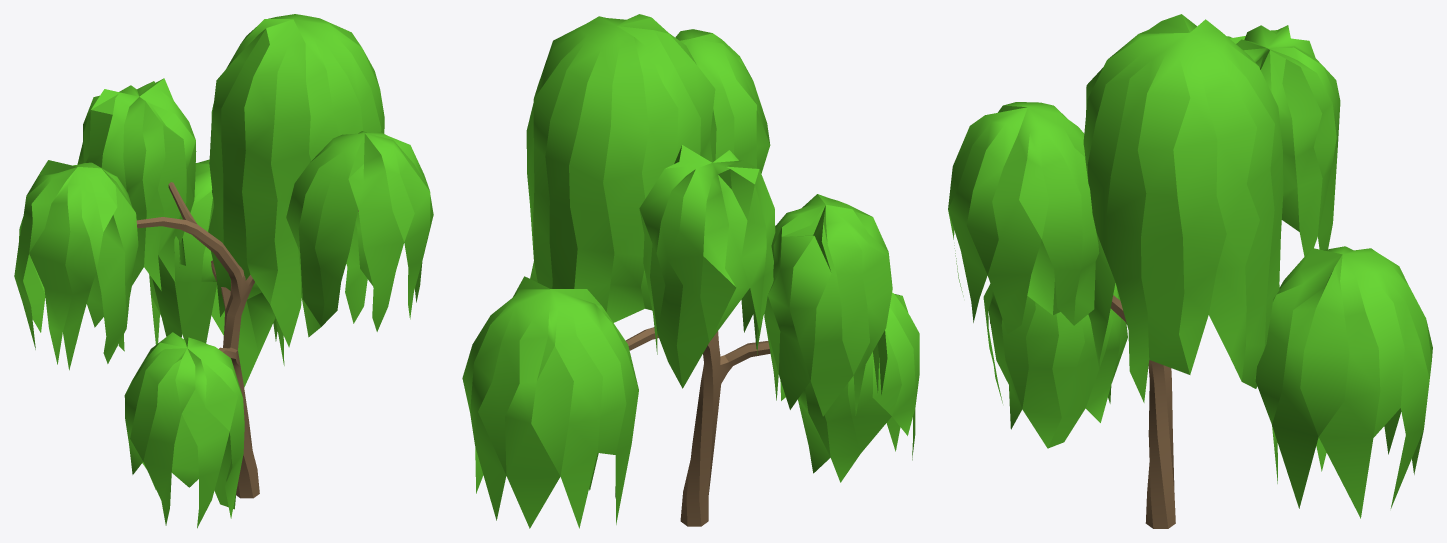
Rendered from swamp_willowtree.fbx.
3 views of the same model, side by side, from view 1: azimuth 30°, elevation 25°; view 2: azimuth 150°, elevation 25°; view 3: azimuth 270°, elevation 25° (orthographic). The views are drawn at different scales.
Visible parts, largest first — view 1: SwampTree_02_canopy, SwampTree_02; view 2: SwampTree_02_canopy, SwampTree_02; view 3: SwampTree_02_canopy, SwampTree_02.
Part boxes in pixels (left/top/right/bottom): SwampTree_02_canopy: left=14, top=14, right=433, bottom=528; SwampTree_02: left=136, top=182, right=358, bottom=498; SwampTree_02_canopy: left=462, top=14, right=919, bottom=528; SwampTree_02: left=625, top=327, right=770, bottom=526; SwampTree_02_canopy: left=948, top=14, right=1432, bottom=518; SwampTree_02: left=990, top=295, right=1175, bottom=528.
Size of the model in its own units: 4.72 by 6 by 5.02.
